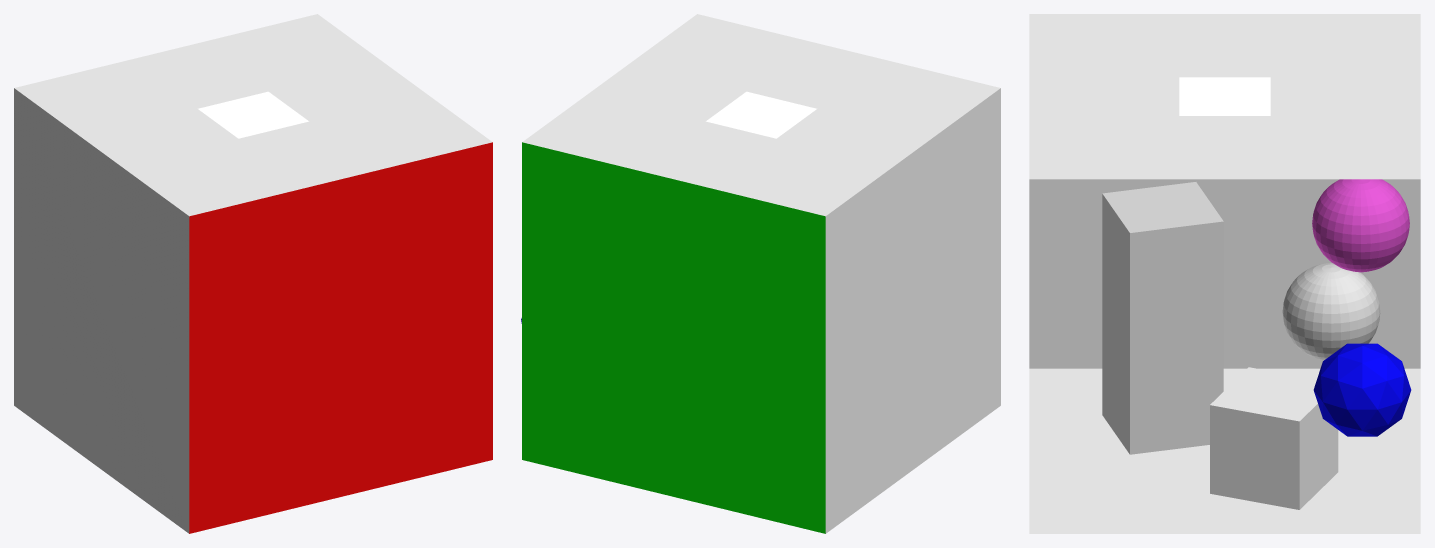
File: my_cornell_7.gltf
3 renders of one model, left to right at view 1: azimuth 30°, elevation 25°; view 2: azimuth 150°, elevation 25°; view 3: azimuth 270°, elevation 25°, orthographic. The views are drawn at different scales.
Parts seen in each view (by area): view 1: LeftWall, BackWall, Ceiling, Light; view 2: RightWall, BackWall, Ceiling, Light; view 3: Ceiling, BackWall, Floor, Prism, Cube, Sphere, Icosphere, Sphere.001, Light.
Boxes of the visible parts, x1,y1,x2,y2 form: LeftWall: (189,142,492,533); BackWall: (14,88,189,533); Ceiling: (14,14,492,216); Light: (198,91,308,138); RightWall: (522,142,825,533); BackWall: (825,88,1000,533); Ceiling: (522,14,1000,216); Light: (706,91,816,138); Ceiling: (1029,14,1420,179); BackWall: (1029,179,1420,368); Floor: (1029,368,1420,533); Prism: (1102,182,1223,454); Cube: (1210,367,1338,509); Sphere: (1312,179,1409,272); Icosphere: (1313,343,1411,436); Sphere.001: (1282,263,1380,359); Light: (1179,77,1270,115).
Size of the model in its own units: 8.54 by 8 by 8.
